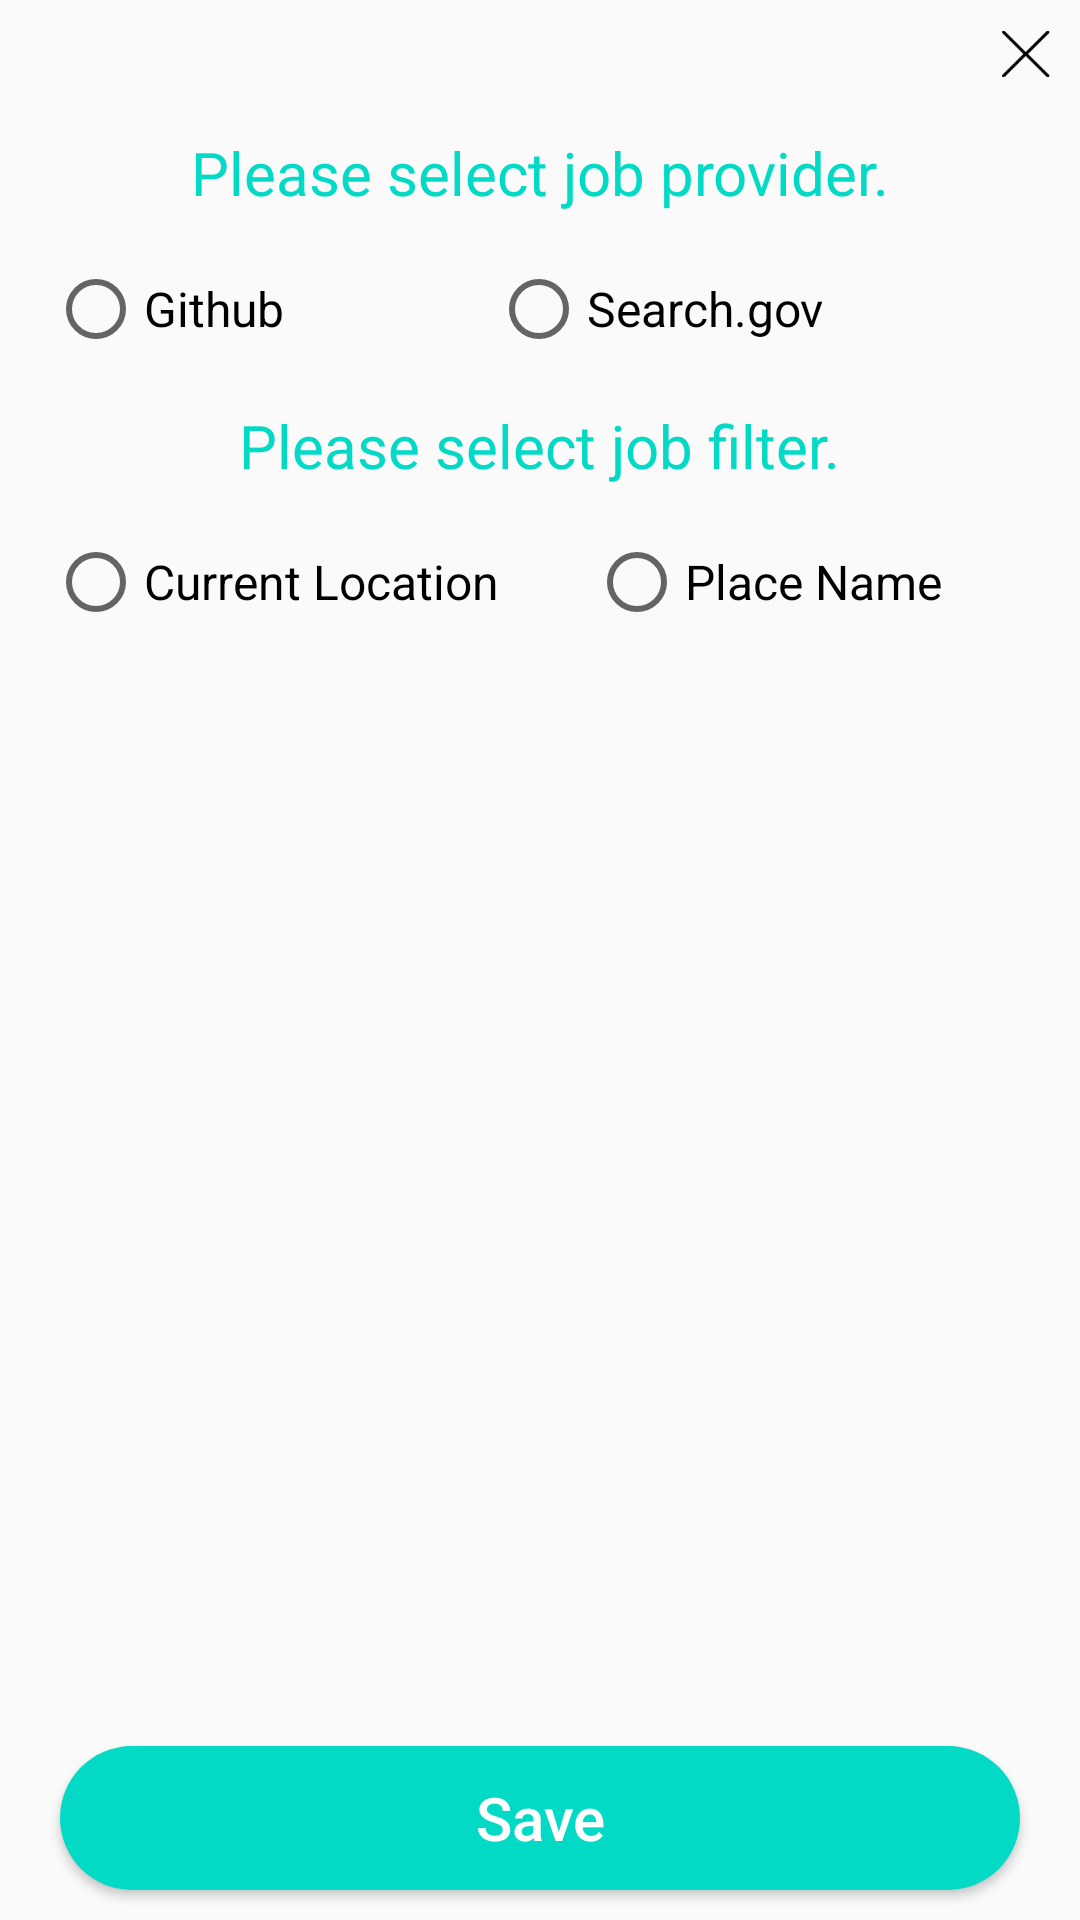

Screen size 1080px x 1920px. Icon name, then its center in pixels as point (x, y):
cross: point (1026, 54)
